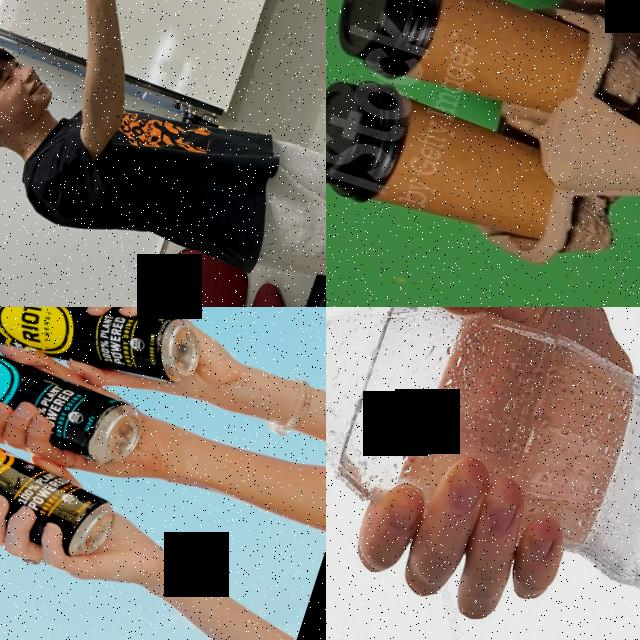bottle: (326, 307, 640, 614)
can: (0, 325, 151, 474), (0, 401, 130, 567), (0, 307, 211, 405)
cup: (326, 61, 583, 262), (326, 0, 622, 145)
